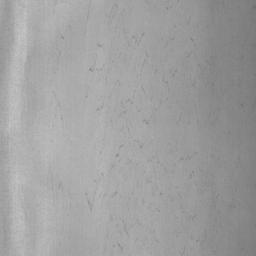Silk spot: (89, 49, 126, 86), (104, 215, 129, 252), (111, 153, 160, 170), (110, 96, 140, 123), (119, 126, 144, 150), (115, 27, 144, 46), (205, 175, 219, 208), (85, 193, 93, 212)
